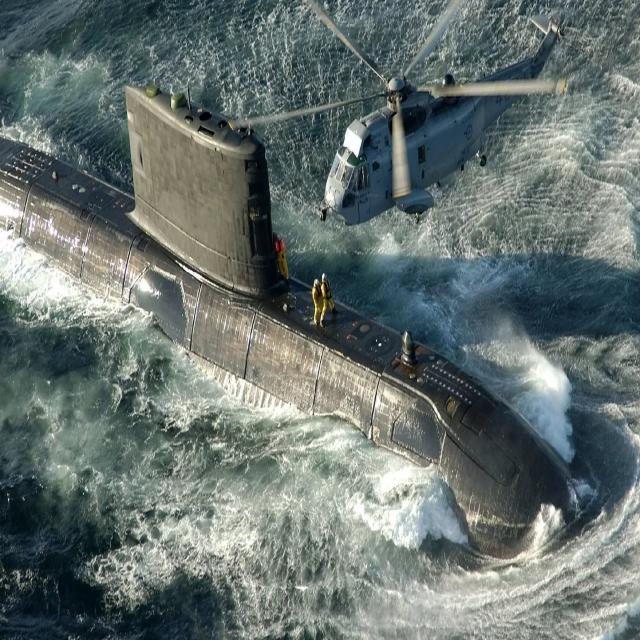submarine: (1, 68, 589, 560)
